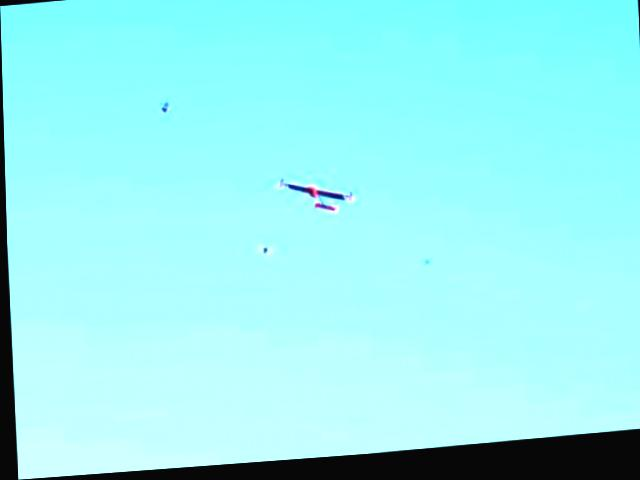uav: (271, 168, 360, 227)
